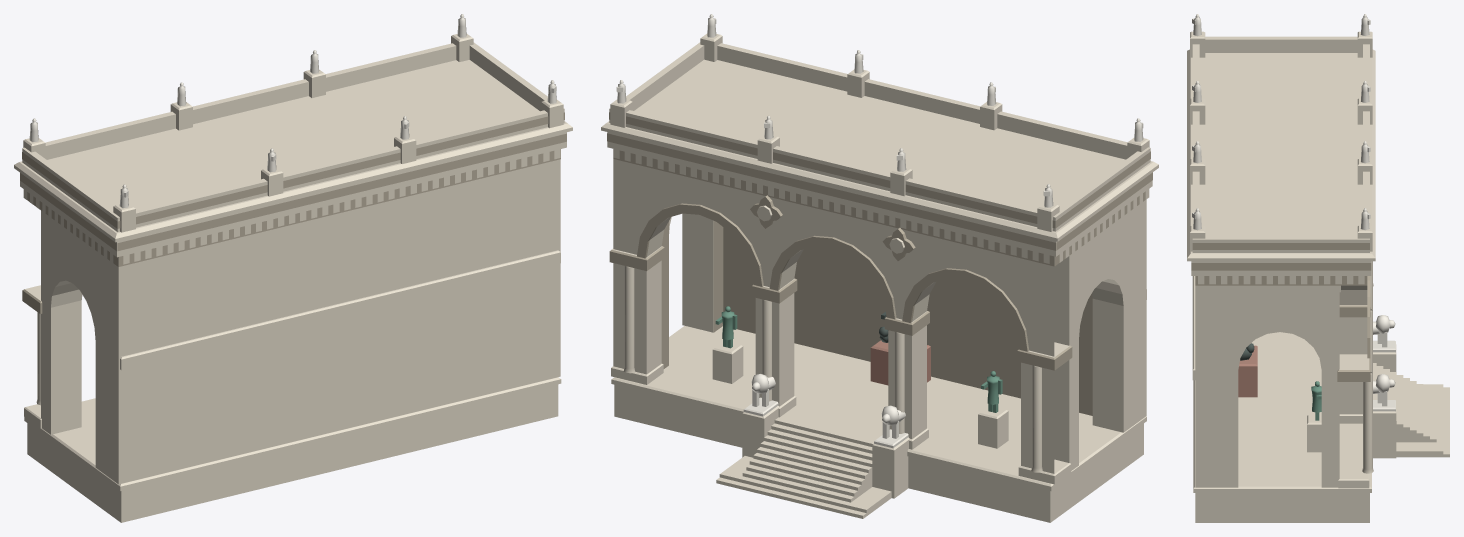
Rendered from munich-feldherrnhalle.glb.
3 views of the same model, side by side, from view 1: azimuth 30°, elevation 25°; view 2: azimuth 150°, elevation 25°; view 3: azimuth 270°, elevation 25° (orthographic). The views are drawn at different scales.
Parts seen in each view (by area): view 1: Feldherrnhalle; view 2: Feldherrnhalle; view 3: Feldherrnhalle.
Part boxes in pixels (<box>): Feldherrnhalle: <box>14,14,572,522</box>; Feldherrnhalle: <box>601,14,1158,522</box>; Feldherrnhalle: <box>1187,14,1449,522</box>.
Size of the model in its own units: 35.45 by 24.9 by 18.96.
